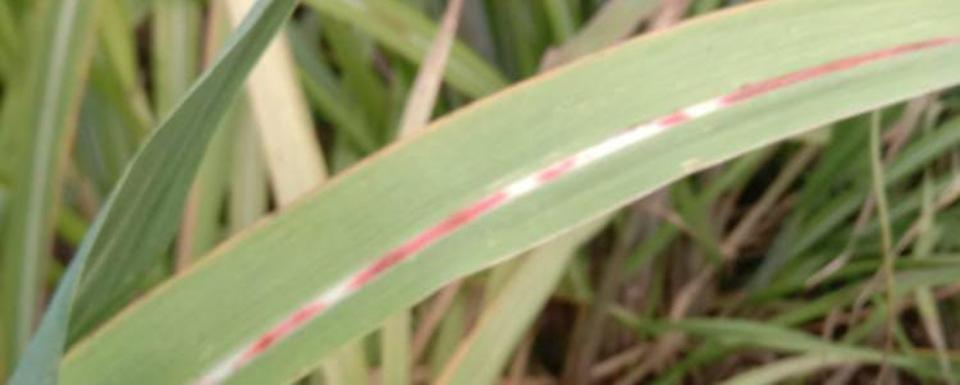RedRot: (342, 189, 510, 294), (716, 34, 959, 105), (229, 301, 330, 370), (532, 156, 583, 184), (656, 110, 694, 130)
